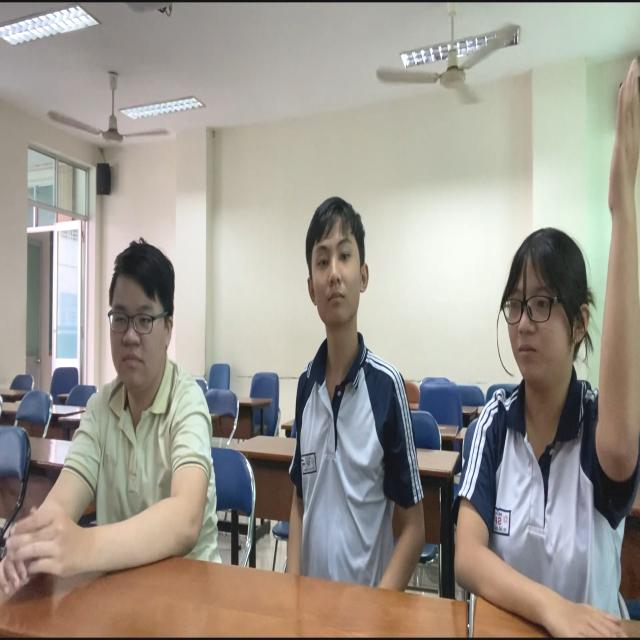raise_hand: (447, 60, 640, 640)
